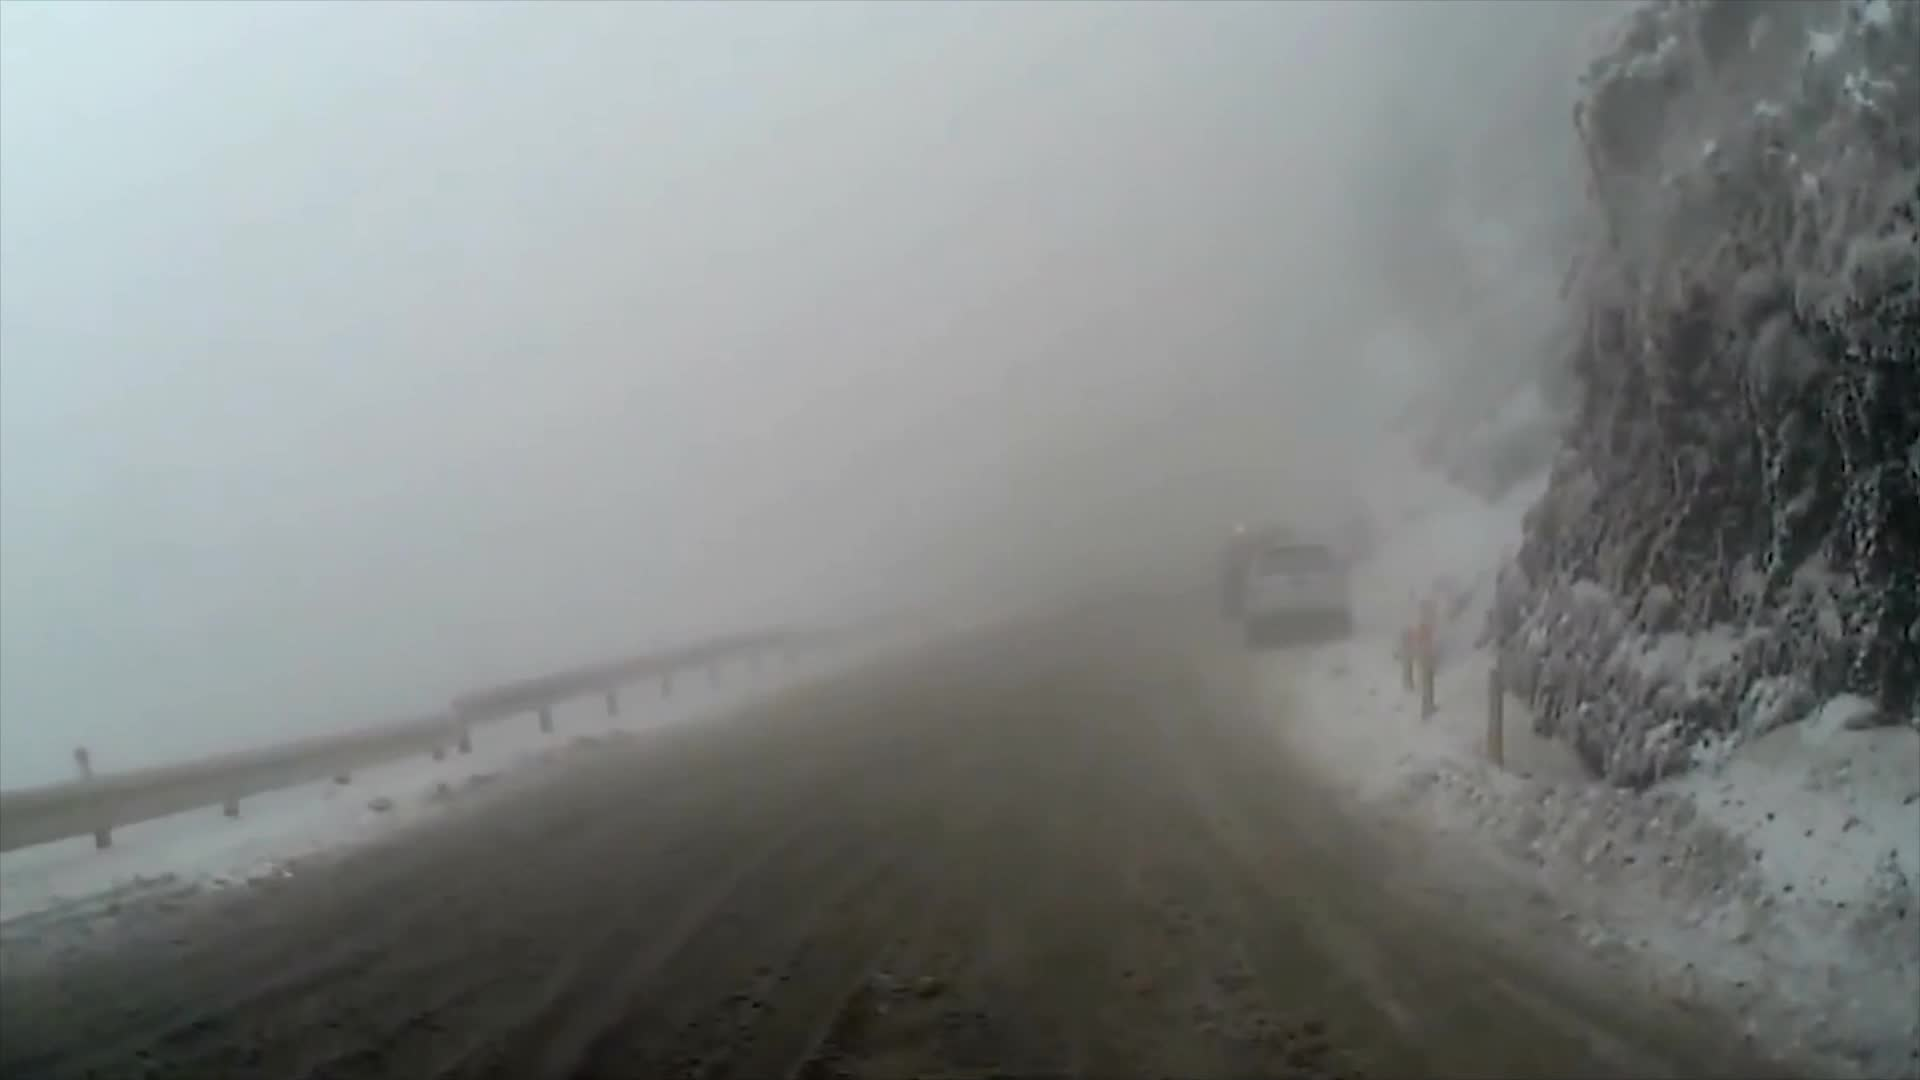vehicle: (1238, 537, 1352, 649)
